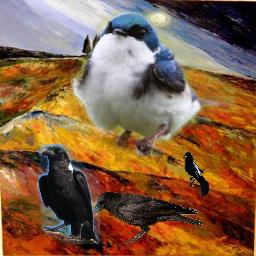Crow: (37, 144, 100, 244), (91, 191, 203, 245), (183, 152, 209, 196)
Swallow: (70, 11, 237, 157)
